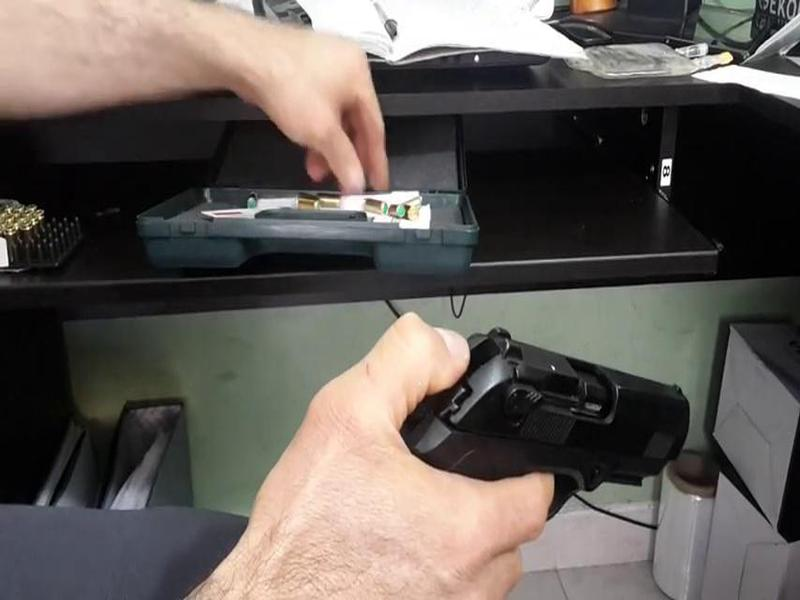Pistola: (384, 293, 700, 544)
